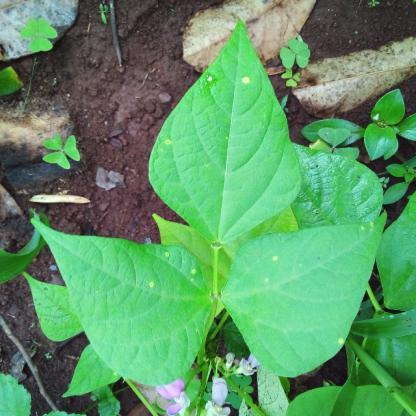Beans_Rust: (147, 22, 296, 242), (30, 217, 206, 389), (223, 210, 389, 374)
